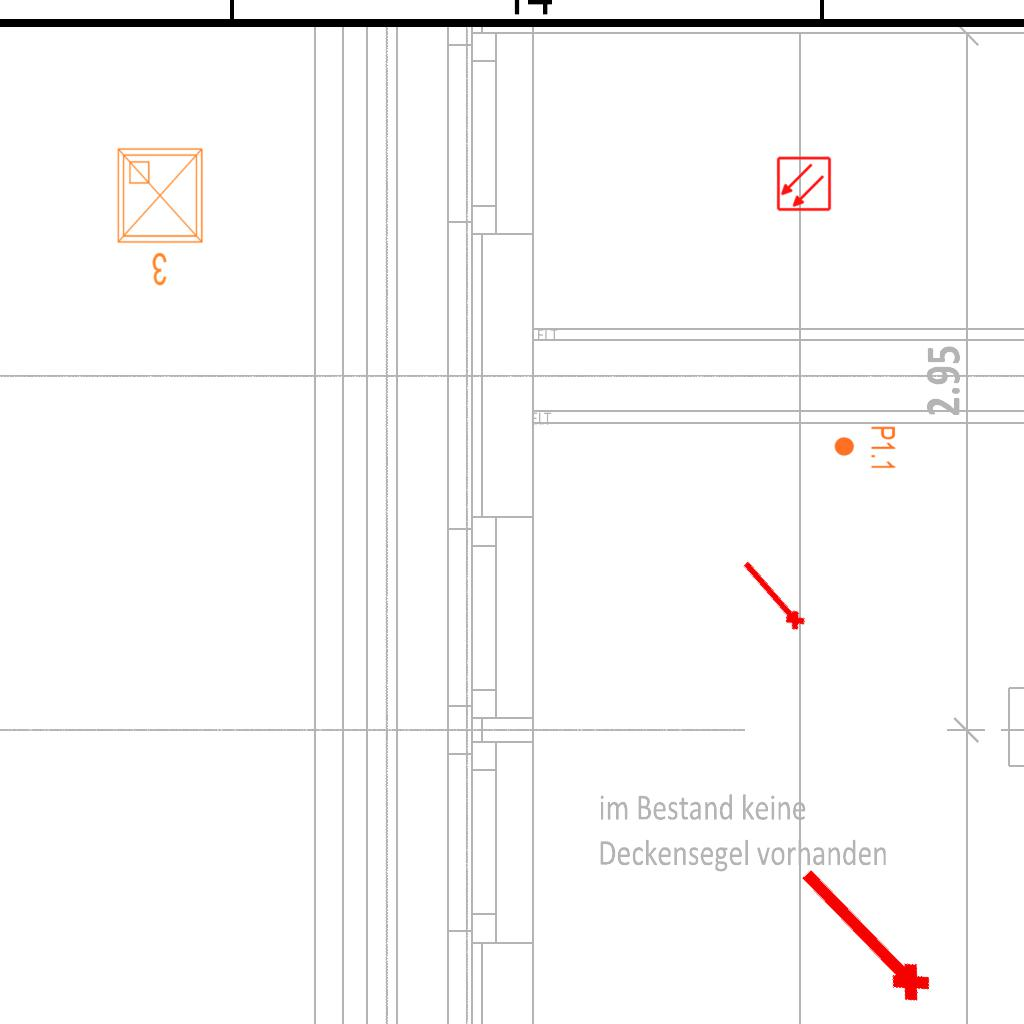ASR_Ansaugoeffnung: (784, 855, 940, 1015), (734, 554, 810, 637)
Downlight_LED_Einbauleuchten_Flur: (833, 425, 897, 471)
Einbaudownlights_LED_Konferenzraeume: (110, 141, 214, 291)
RMO_Rauchmelder_optischer: (776, 156, 832, 212)
